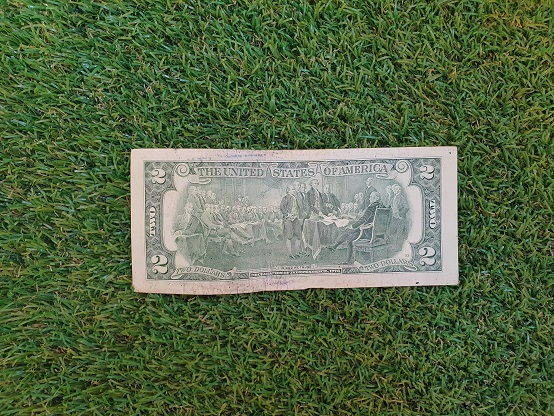2dollar: (128, 146, 459, 294)
